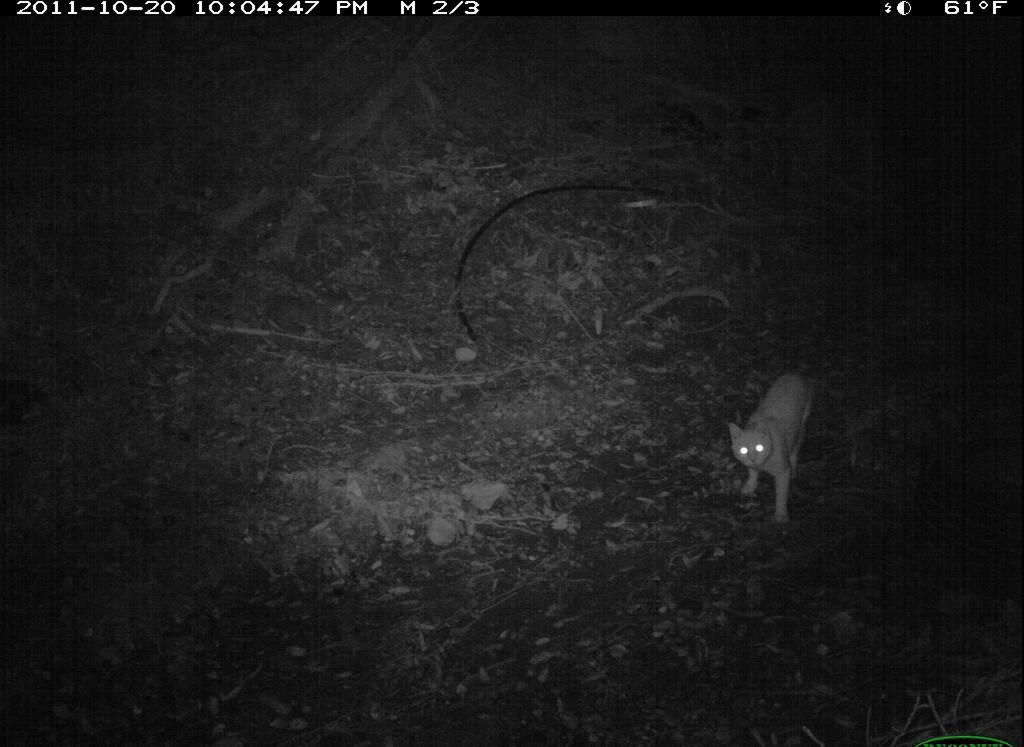cat: (721, 365, 827, 534)
